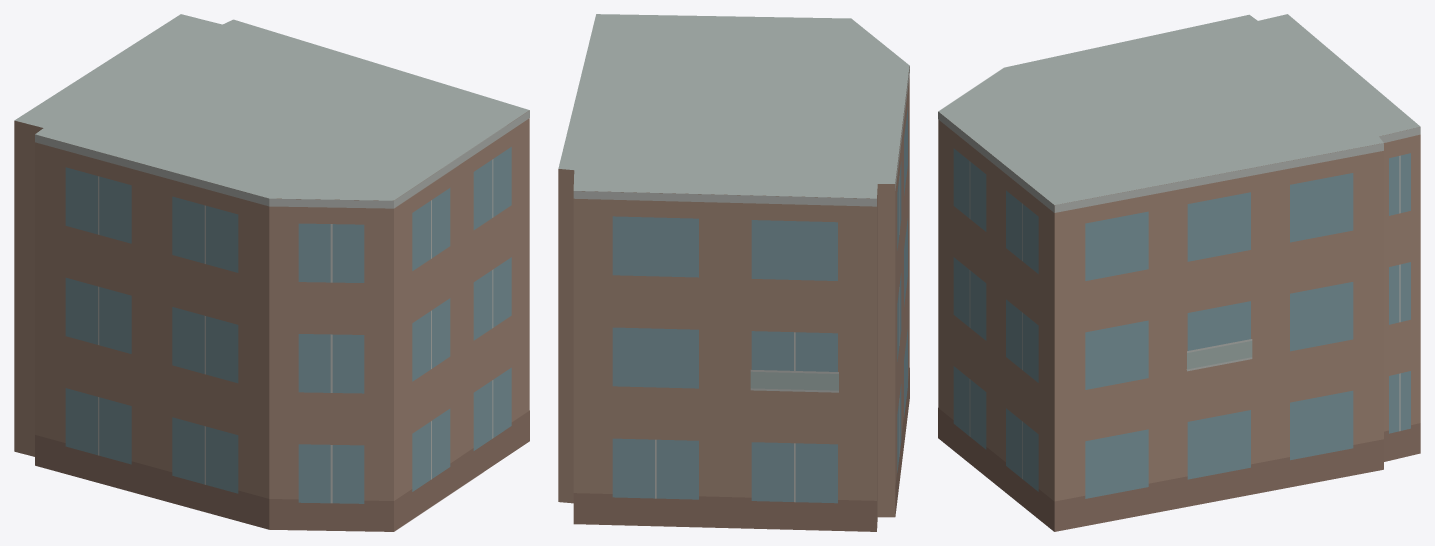
File: survey-upis-32745994.glb
3 renders of one model, left to right at view 1: azimuth 30°, elevation 25°; view 2: azimuth 150°, elevation 25°; view 3: azimuth 270°, elevation 25°, orthographic. The views are drawn at different scales.
Visible parts, largest first — view 1: survey-upis-32745994.tmp; view 2: survey-upis-32745994.tmp; view 3: survey-upis-32745994.tmp.
Part boxes in pixels (bbox=[...]): survey-upis-32745994.tmp: bbox=[14, 14, 529, 531]; survey-upis-32745994.tmp: bbox=[558, 14, 909, 531]; survey-upis-32745994.tmp: bbox=[938, 14, 1420, 531].
Size of the model in its own units: 12.81 by 10.2 by 13.66.
